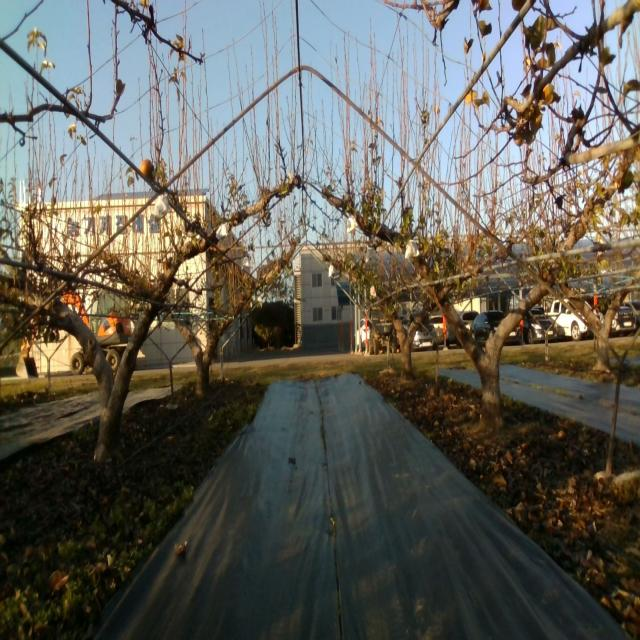pearbags: (154, 192, 169, 222), (405, 238, 420, 260), (215, 223, 229, 241)
